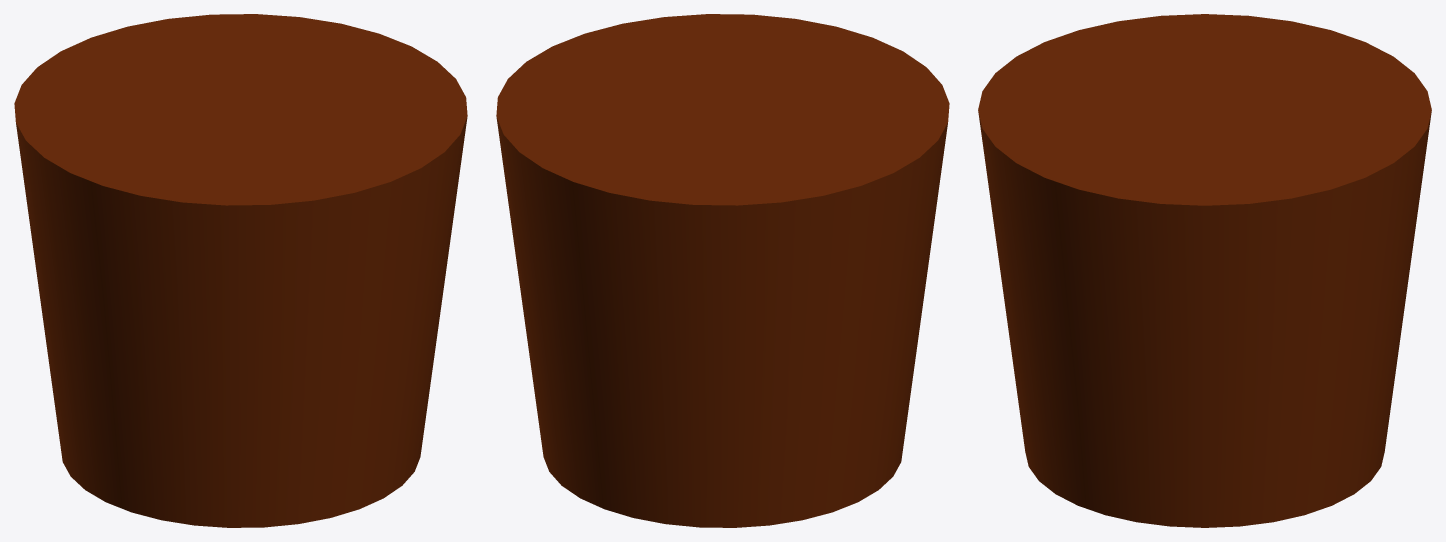
Rendered from Drink.FBX.
3 views of the same model, side by side, from view 1: azimuth 30°, elevation 25°; view 2: azimuth 150°, elevation 25°; view 3: azimuth 270°, elevation 25° (orthographic).
Parts seen in each view (by area): view 1: Cylinder061; view 2: Cylinder061; view 3: Cylinder061.
Part boxes in pixels (x1=…): Cylinder061: x1=14, y1=14, x2=467, y2=527; Cylinder061: x1=496, y1=14, x2=949, y2=527; Cylinder061: x1=978, y1=14, x2=1431, y2=527.
Bounding box in the file's own units: 60.35 × 50.2 × 60.35.
